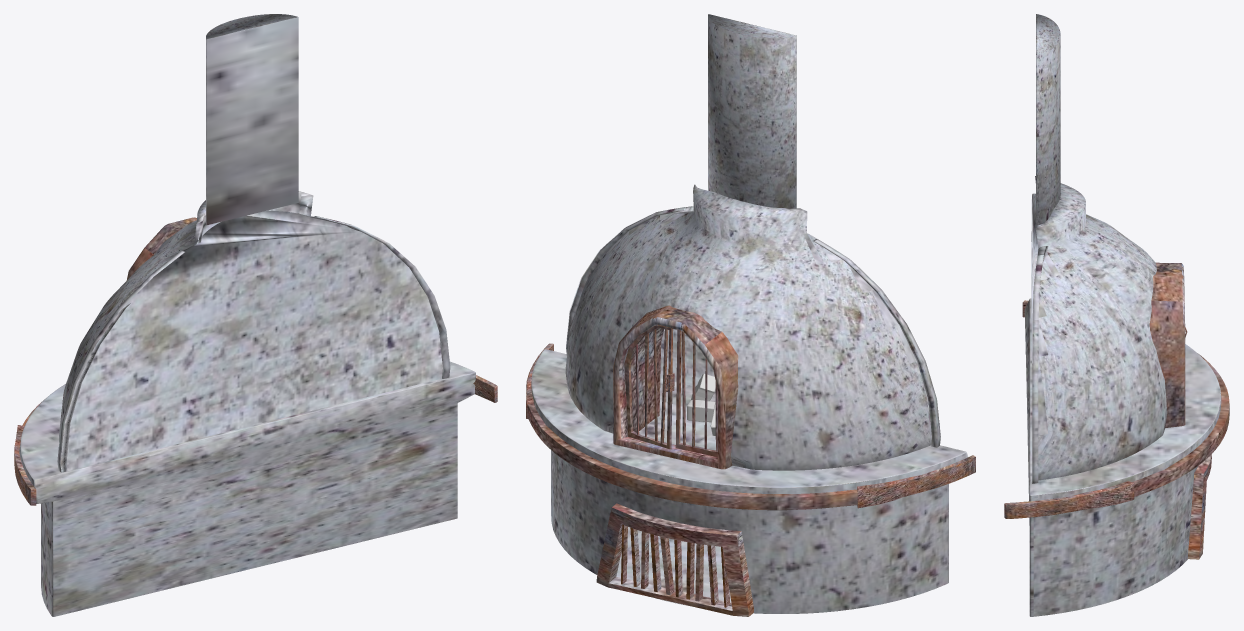
The model's file is печка.fbx.
The picture shows the model from 3 angles, left to right: view 1: azimuth 30°, elevation 25°; view 2: azimuth 150°, elevation 25°; view 3: azimuth 270°, elevation 25°; orthographic projection. The views are drawn at different scales.
Visible parts, largest first — view 1: Sphere, Cylinder, Cylinder.001, 1, Cylinder.002; view 2: Sphere, Cylinder, Cylinder.001, Cylinder.005, 1, Cylinder.003, 1.002, Cylinder.002; view 3: Sphere, Cylinder, Cylinder.001, 1, Cylinder.004, Cylinder.003, Cylinder.005.
Part boxes in pixels (bbox=[...]): Sphere: bbox=[57, 191, 450, 472]; Cylinder: bbox=[19, 361, 475, 616]; Cylinder.001: bbox=[206, 14, 298, 225]; 1: bbox=[126, 217, 196, 280]; Cylinder.002: bbox=[14, 425, 36, 505]; Sphere: bbox=[565, 184, 940, 470]; Cylinder: bbox=[531, 349, 968, 613]; Cylinder.001: bbox=[708, 14, 796, 208]; Cylinder.005: bbox=[596, 503, 753, 616]; 1: bbox=[613, 305, 738, 469]; Cylinder.003: bbox=[527, 403, 857, 510]; 1.002: bbox=[624, 325, 717, 456]; Cylinder.002: bbox=[857, 455, 975, 508]; Sphere: bbox=[1031, 176, 1167, 483]; Cylinder: bbox=[1024, 298, 1221, 616]; Cylinder.001: bbox=[1036, 14, 1060, 225]; 1: bbox=[1149, 262, 1185, 427]; Cylinder.004: bbox=[1004, 481, 1134, 518]; Cylinder.003: bbox=[1132, 353, 1229, 496]; Cylinder.005: bbox=[1187, 454, 1211, 559].
Size of the model in its own units: 292 by 328 by 136.
Materials: 2 (2 with a texture image).
